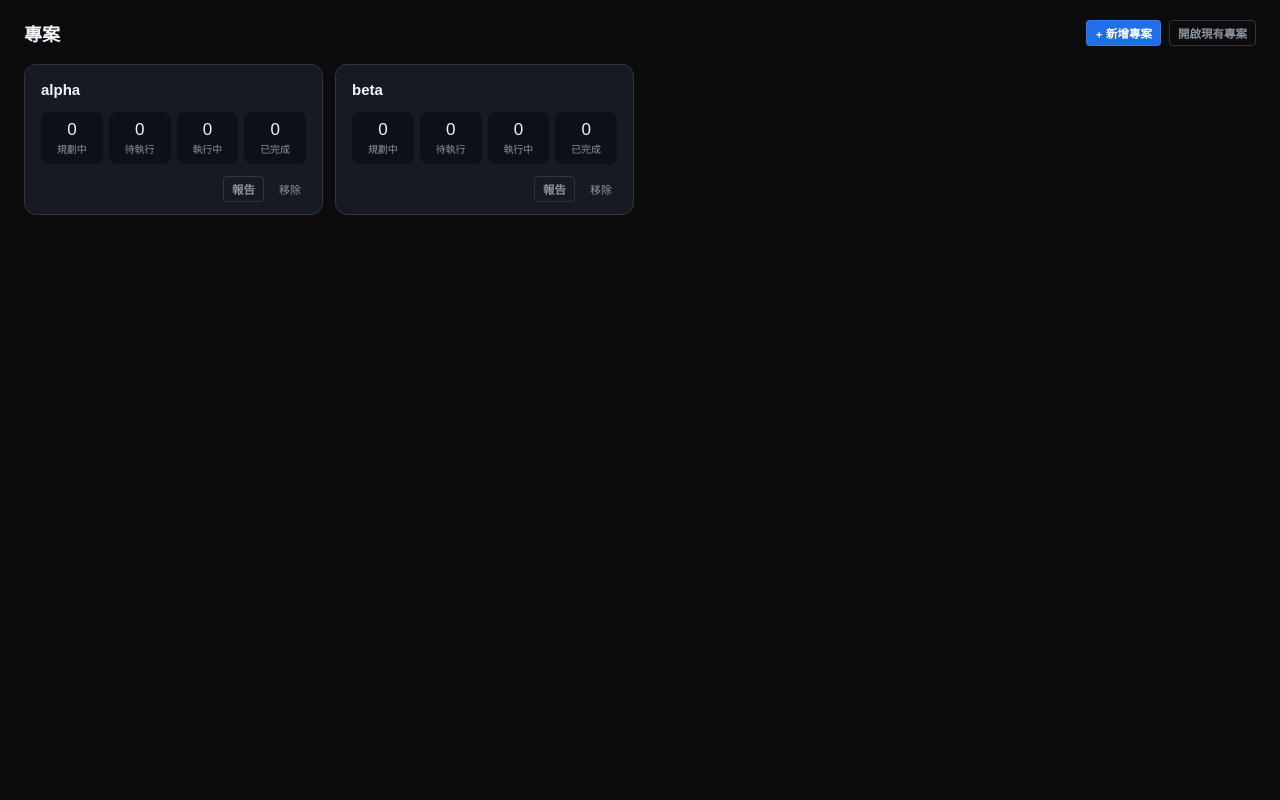
Test case: TaskBoardView 路由 › 關閉活躍分頁後接手剩下的分頁，而不是回到專案總覽
Click the text "alpha".
click(61, 90)  # box [41, 81, 80, 98]
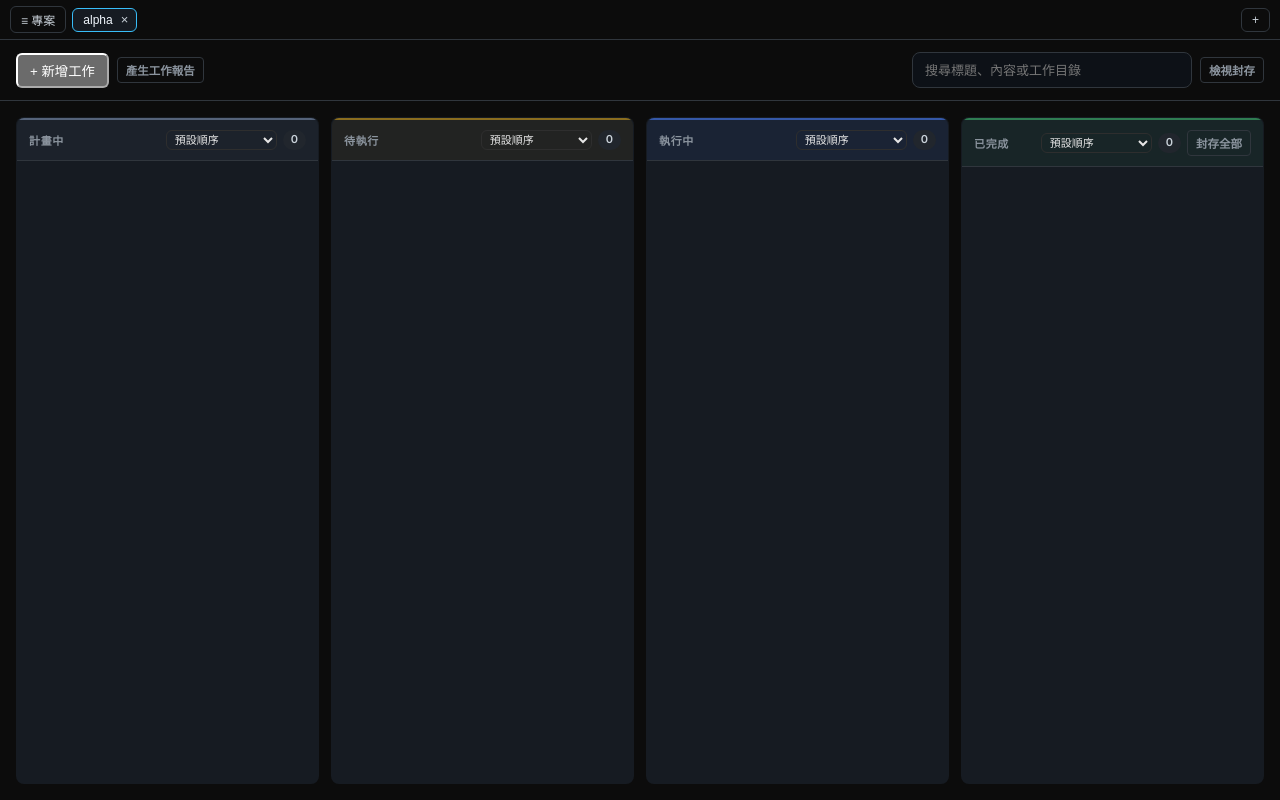
Expected: the element with test id "column-planning" is shown, [16, 117, 319, 784]
Click the button with test id "project-tab-back".
click(38, 20)  # box [10, 6, 66, 33]
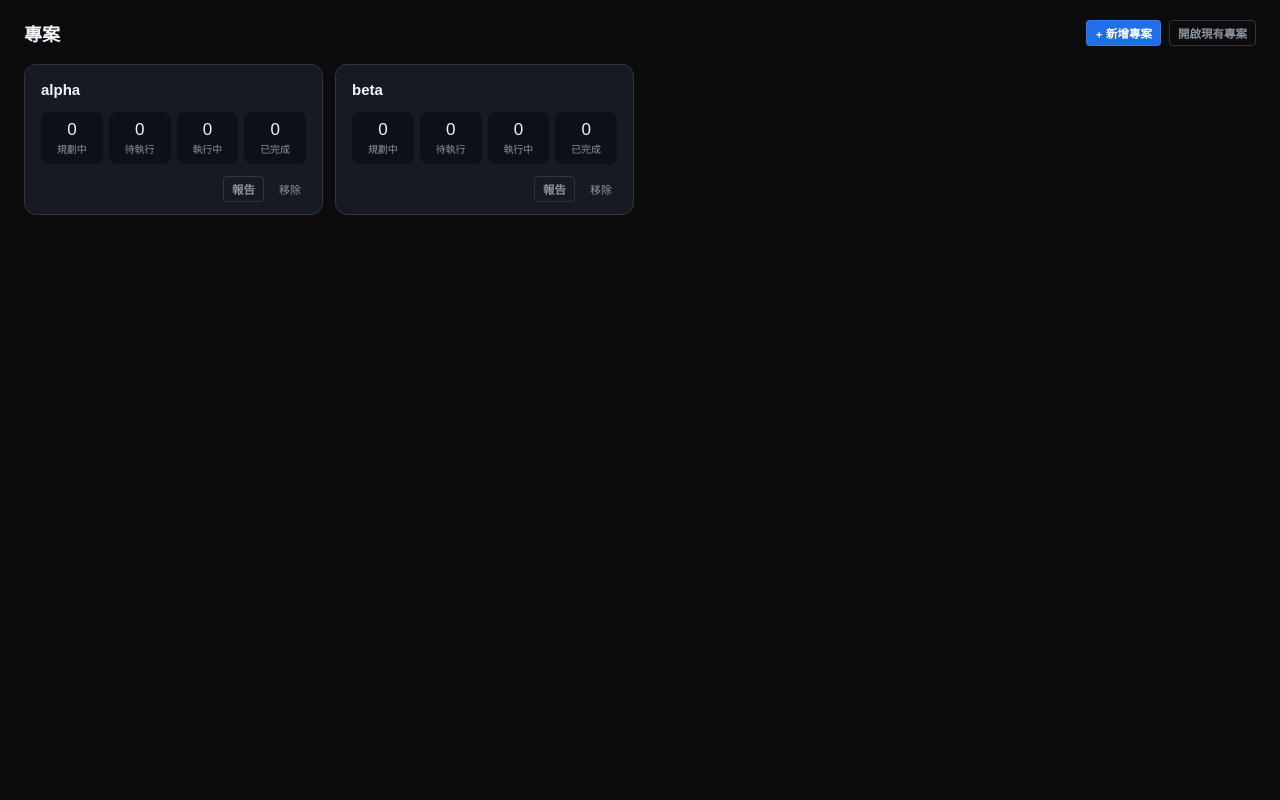
Click the text "beta".
click(367, 90)  # box [352, 81, 383, 98]
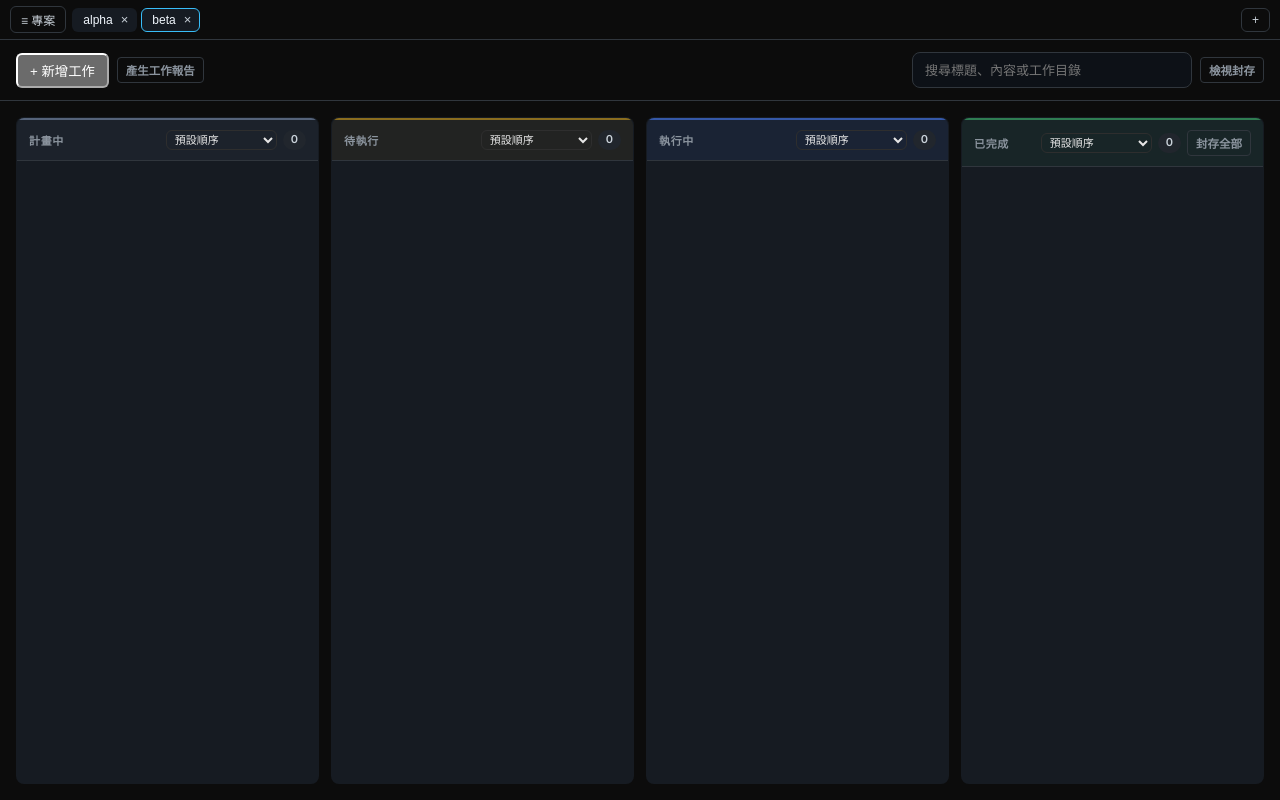
Click the button with test id "project-tab-close-beta".
click(190, 20)  # box [180, 9, 199, 30]
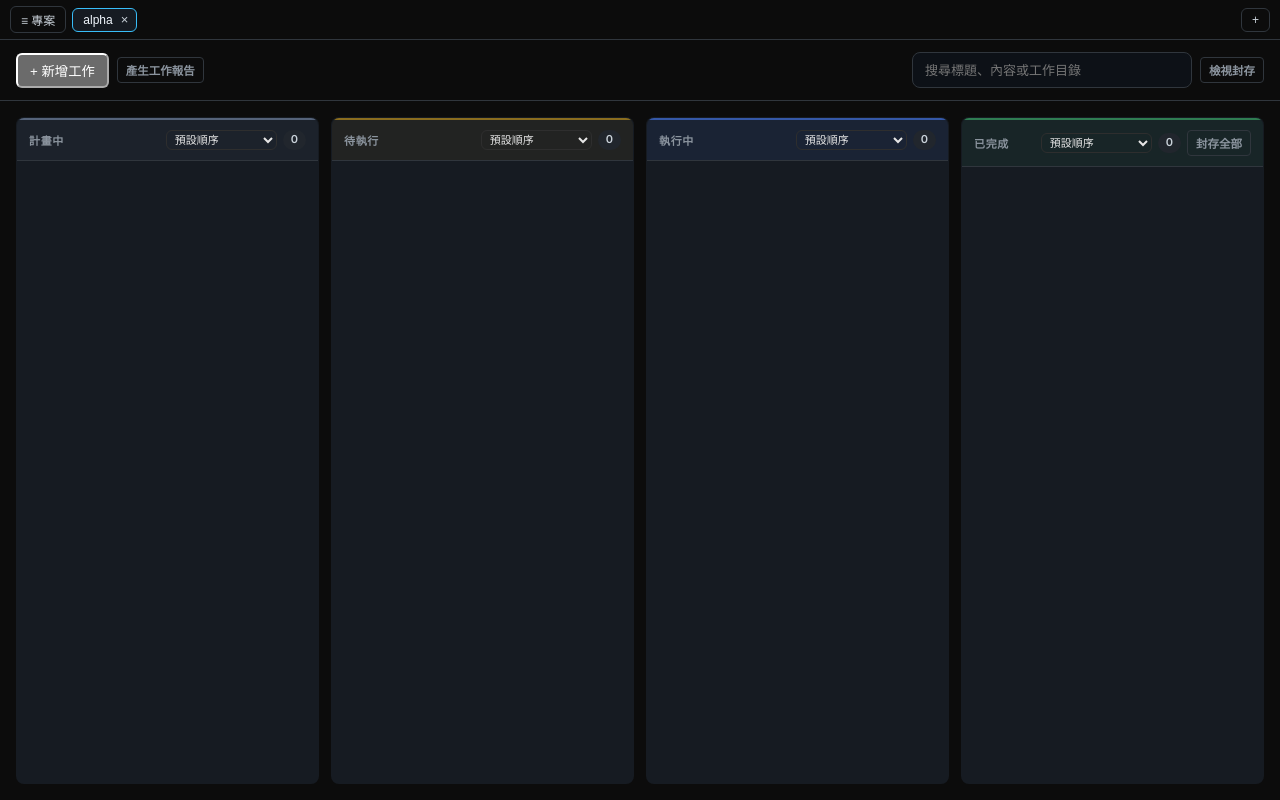
Expected: the button with test id "project-tab-alpha" is shown, [73, 8, 117, 30]
Expected: the element with test id "column-planning" is shown, [16, 117, 319, 784]
Expected: the button with test id "project-tab-beta" is gone
